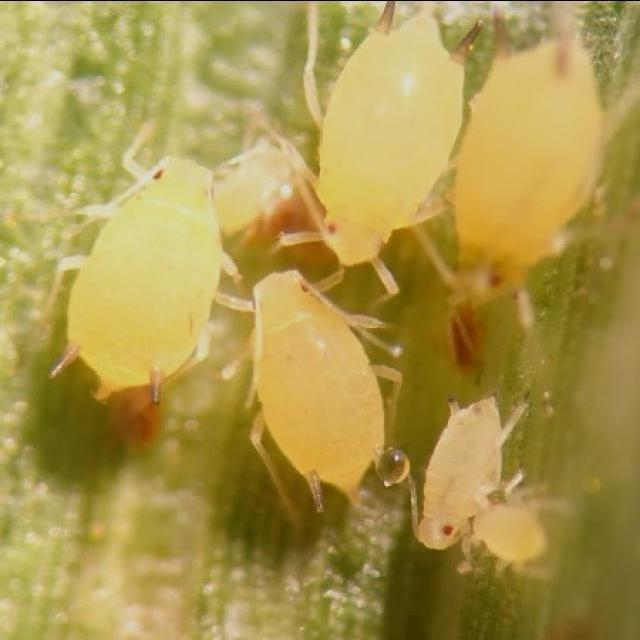aphid: (48, 130, 224, 439), (283, 14, 469, 270), (230, 252, 405, 520), (391, 376, 534, 562)
